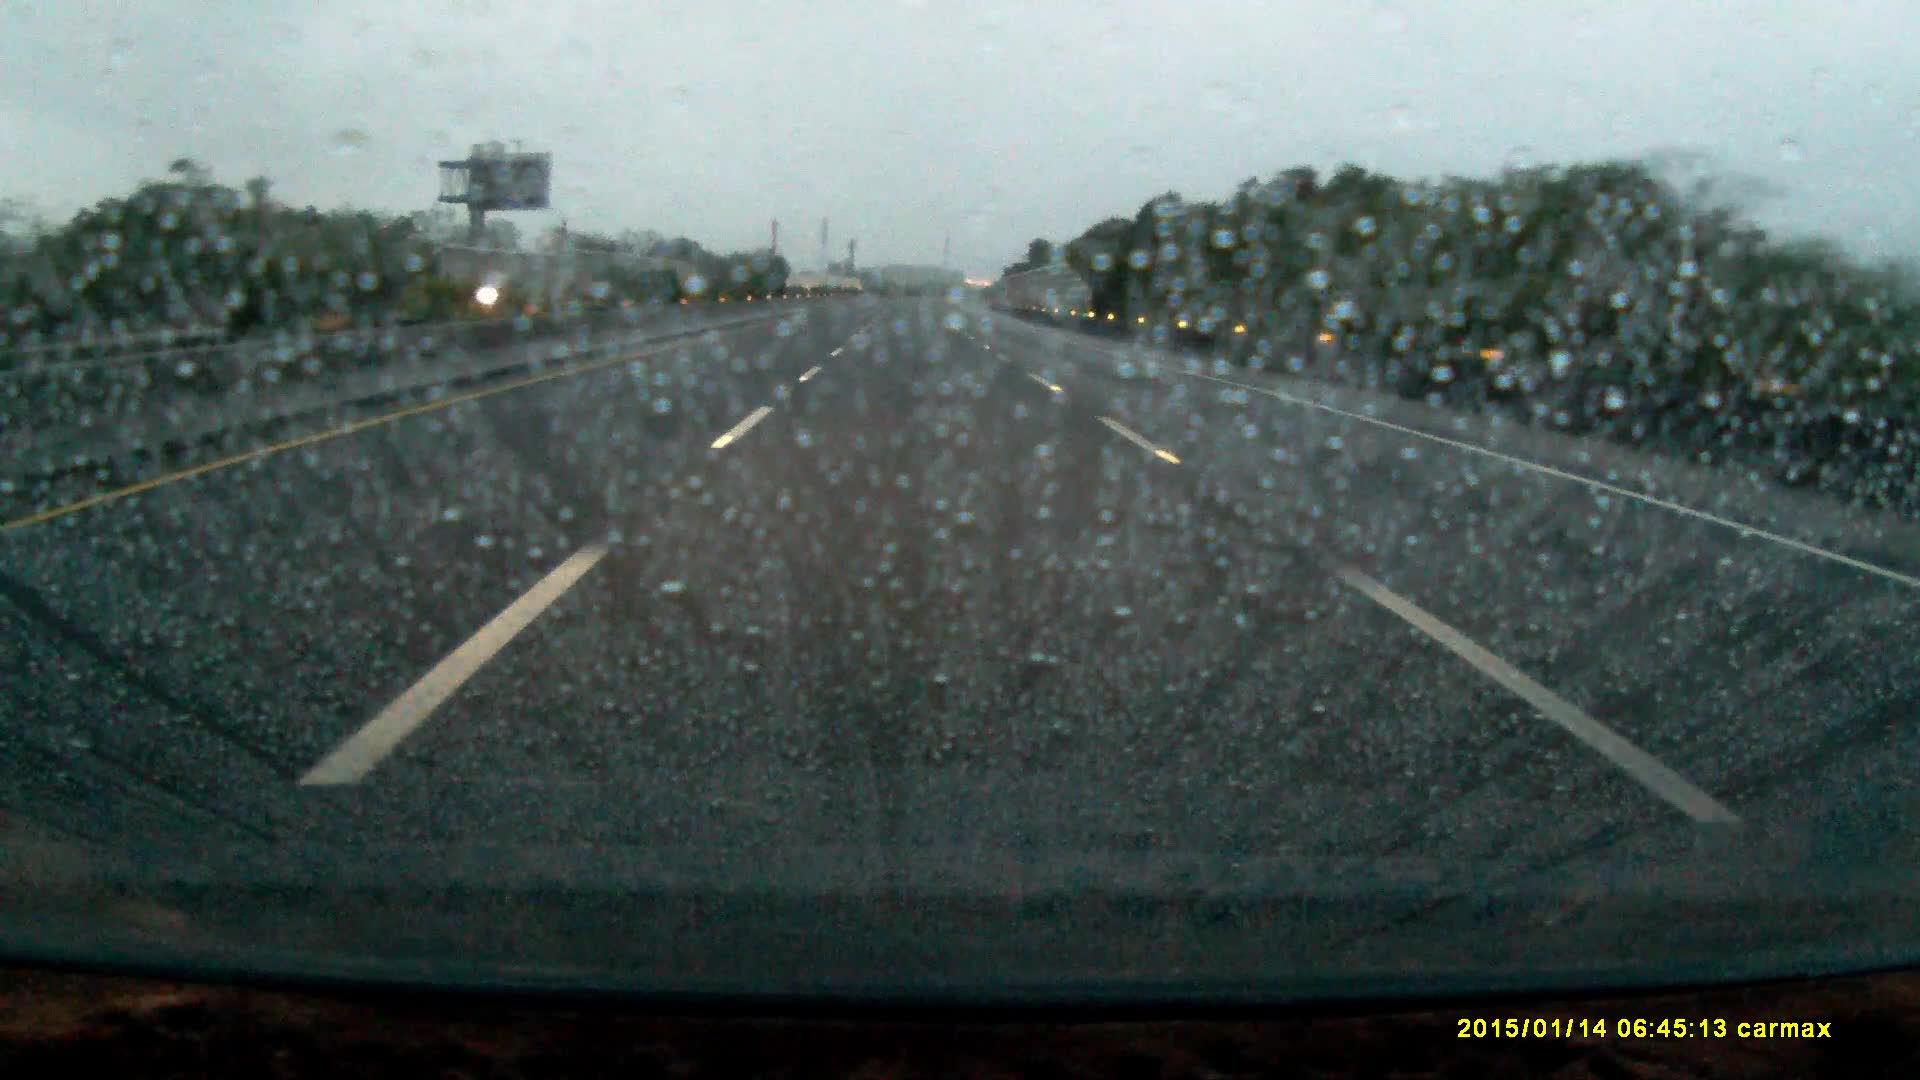vehicle: (489, 266, 583, 311)
